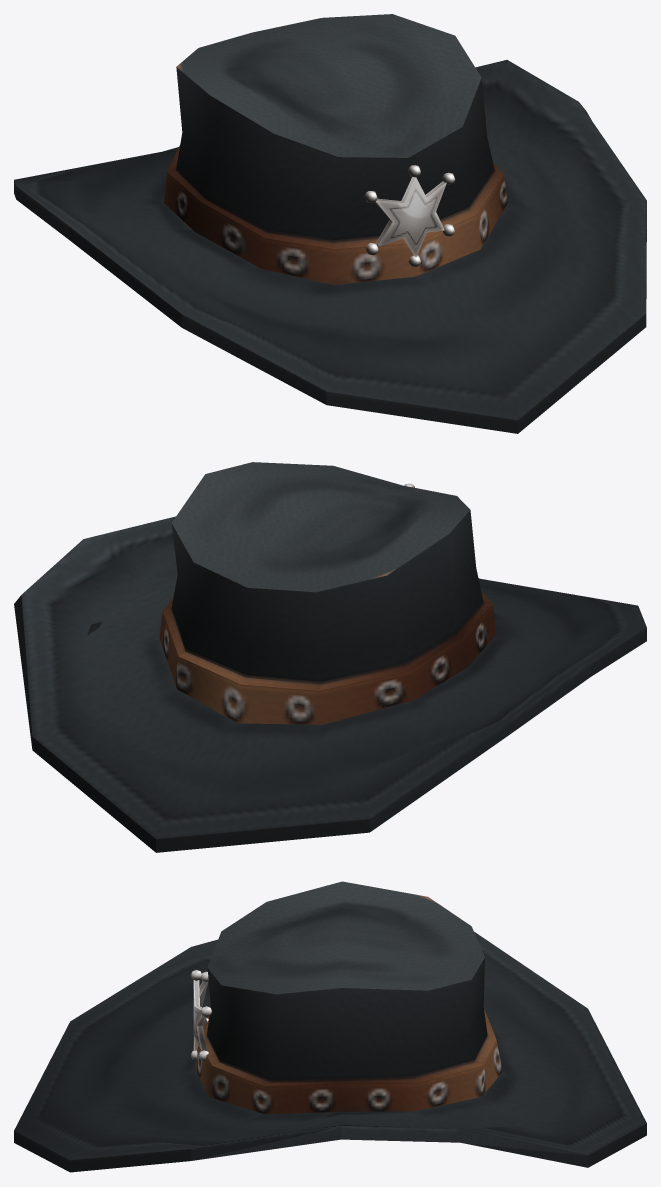
File: Hat.fbx
3 renders of one model, top to bottom at view 1: azimuth 30°, elevation 25°; view 2: azimuth 150°, elevation 25°; view 3: azimuth 270°, elevation 25°, orthographic. The views are drawn at different scales.
Parts seen in each view (by area): view 1: Normal_Hat_Acc; view 2: Normal_Hat_Acc; view 3: Normal_Hat_Acc.
Boxes of the visible parts, <box> form: Normal_Hat_Acc: <box>14,14,646,433</box>; Normal_Hat_Acc: <box>14,462,646,852</box>; Normal_Hat_Acc: <box>14,881,646,1172</box>.
Bounding box in the file's own units: 1.5 × 0.6495 × 1.79.
Materials: 1 (1 with a texture image).
